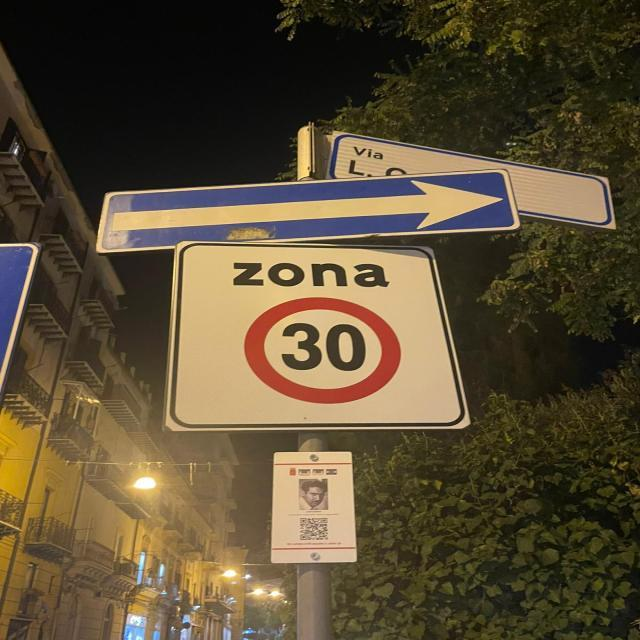forb_speed_over_30: (244, 296, 404, 405)
